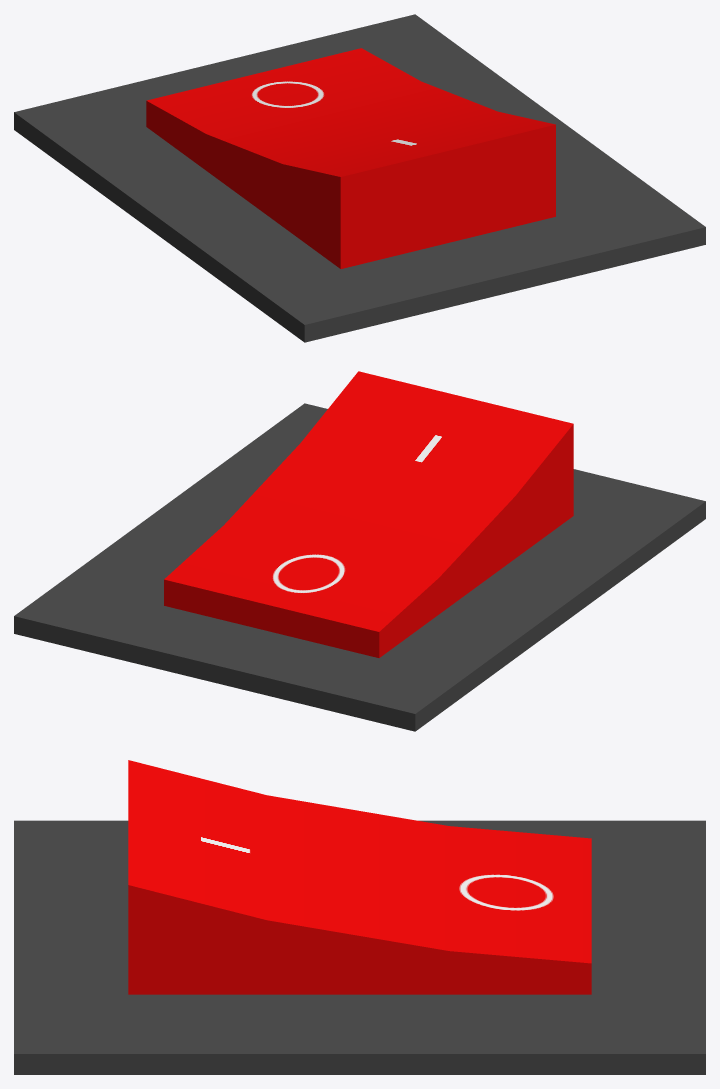
Rendered from switche.fbx.
The picture shows the model from 3 angles, top to bottom: view 1: azimuth 30°, elevation 25°; view 2: azimuth 150°, elevation 25°; view 3: azimuth 270°, elevation 25°; orthographic projection. The views are drawn at different scales.
Visible parts, largest first — view 1: switche1; view 2: switche1; view 3: switche1.
Part boxes in pixels (x1,y1,x2,y2): switche1: (14, 14, 705, 342); switche1: (14, 371, 705, 731); switche1: (14, 760, 705, 1074).
Size of the model in its own units: 2.82 by 0.7365 by 3.53.
Materials: 2 (1 with a texture image).
